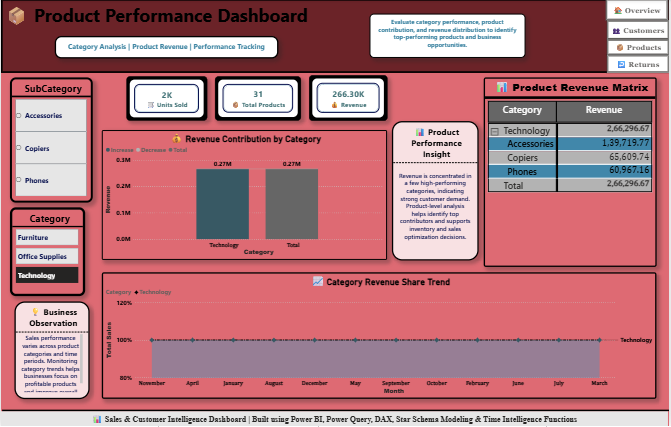

What the dashboard file says about the page in this screenshot:
{"tool":"powerbi","page":{"name":"Product Performance Analysis","canvas":[1800,1150],"ordinal":2},"visuals":[{"type":"textbox","box":[0,0,1798.9,199.1],"z":0},{"type":"textbox","box":[143.8,99.5,602.7,60.8],"z":1000},{"type":"cardVisual","fields":{"Data":["Measures_Table.Revenue"]},"box":[829.4,206.4,212,123.5],"z":2000},{"type":"cardVisual","fields":{"Data":["Measures_Table.Total Products"]},"box":[576.9,208.3,232.2,119.8],"z":3000},{"type":"cardVisual","fields":{"Data":["Measures_Table.Total Units Sold"]},"box":[337.5,207.5,217.5,120],"z":4000},{"type":"advancedSlicerVisual","fields":{"Values":["Product_Dim.Category"]},"box":[24,562.2,202.7,239.6],"z":5000},{"type":"listSlicer","fields":{"Values":["Product_Dim.SubCategory"]},"box":[24,212,223,337.3],"z":6000},{"type":"pivotTable","title":"📊 Product Revenue Matrix","fields":{"Rows":["Product_Dim.Category","Product_Dim.SubCategory"],"Values":["Measures_Table.Revenue"]},"box":[1301.3,212,466.3,510.6],"z":7000},{"type":"waterfallChart","title":"💰 Revenue Contribution by Category","fields":{"Category":["Product_Dim.Category"],"Y":["Measures_Table.Revenue"]},"box":[272.8,353.9,768.6,350.2],"z":8000},{"type":"actionButton","title":"Overview","box":[1631.2,0,167.7,57.1],"z":9000},{"type":"actionButton","title":"Overview","box":[1633.1,57.1,167.7,51.6],"z":10000},{"type":"actionButton","title":"Overview","box":[1633.1,108.7,167.7,42.4],"z":11000},{"type":"actionButton","title":"Overview","box":[1633.1,151.1,167.7,47.9],"z":12000},{"type":"textbox","box":[991.6,38.7,420.2,119.8],"z":13000},{"type":"hundredPercentStackedAreaChart","title":"📈 Category Revenue Share Trend","fields":{"Category":["Date_Dim.Month"],"Series":["Product_Dim.Category"],"Y":["Measures_Table.Total Sales"]},"box":[272.8,737.3,1494.8,341],"z":14000},{"type":"textbox","title":"📊 Product Performance Insight","box":[1054.3,328.1,234.1,376],"z":15000},{"type":"textbox","title":"💡 Business Observation","box":[35,814.7,202.7,263.6],"z":16000},{"type":"textbox","box":[0,1110,1797.5,40],"z":17000},{"type":"shape","box":[2.5,1100,1797.5,20],"z":18000}]}

Visuals, with their boxes in screenshot pixels (x1, y1, x2, y2), scaled from the page's 1800x1150 canvas onto the 671x427 screenshot:
textbox: l=0, t=0, r=670, b=74
textbox: l=54, t=37, r=278, b=60
cardVisual - Measures_Table.Revenue: l=309, t=77, r=388, b=122
cardVisual - Measures_Table.Total Products: l=215, t=77, r=302, b=122
cardVisual - Measures_Table.Total Units Sold: l=126, t=77, r=207, b=122
advancedSlicerVisual - Product_Dim.Category: l=9, t=209, r=85, b=298
listSlicer - Product_Dim.SubCategory: l=9, t=79, r=92, b=204
"📊 Product Revenue Matrix" pivotTable: l=485, t=79, r=659, b=268
"💰 Revenue Contribution by Category" waterfallChart: l=102, t=131, r=388, b=261
"Overview" actionButton: l=608, t=0, r=670, b=21
"Overview" actionButton: l=609, t=21, r=670, b=40
"Overview" actionButton: l=609, t=40, r=670, b=56
"Overview" actionButton: l=609, t=56, r=670, b=74
textbox: l=370, t=14, r=526, b=59
"📈 Category Revenue Share Trend" hundredPercentStackedAreaChart: l=102, t=274, r=659, b=400
"📊 Product Performance Insight" textbox: l=393, t=122, r=480, b=261
"💡 Business Observation" textbox: l=13, t=303, r=89, b=400
textbox: l=0, t=412, r=670, b=426
shape: l=1, t=408, r=670, b=416
